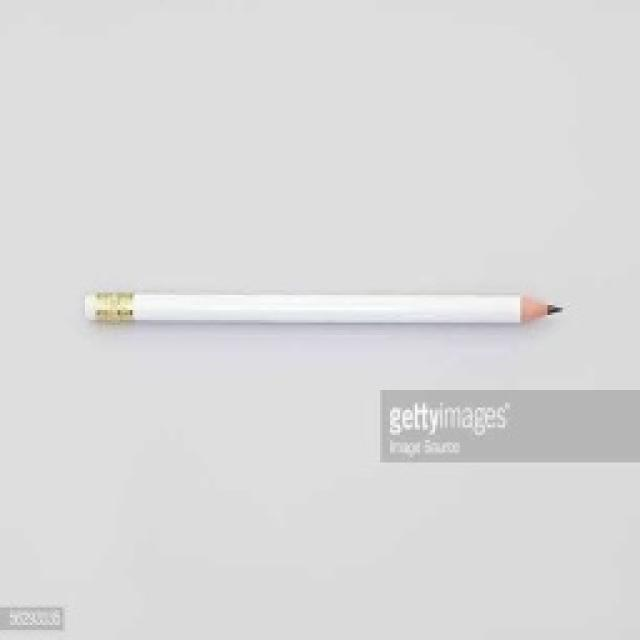pencil: (80, 285, 565, 327)
